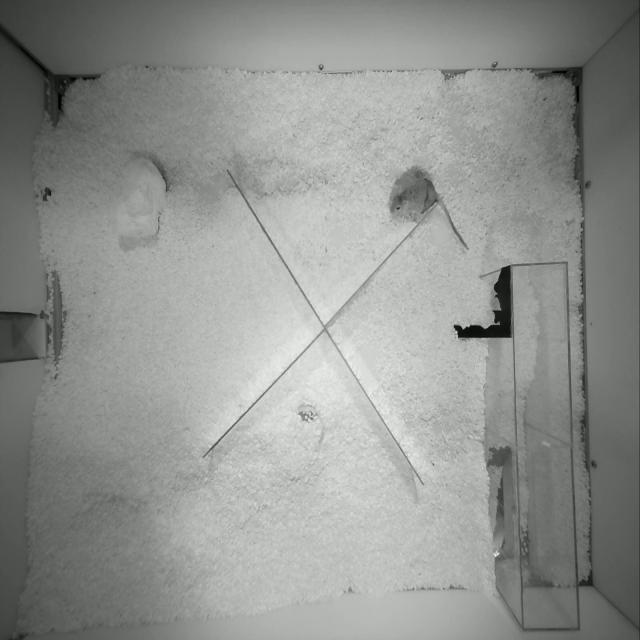adult_back: (390, 178, 437, 221)
